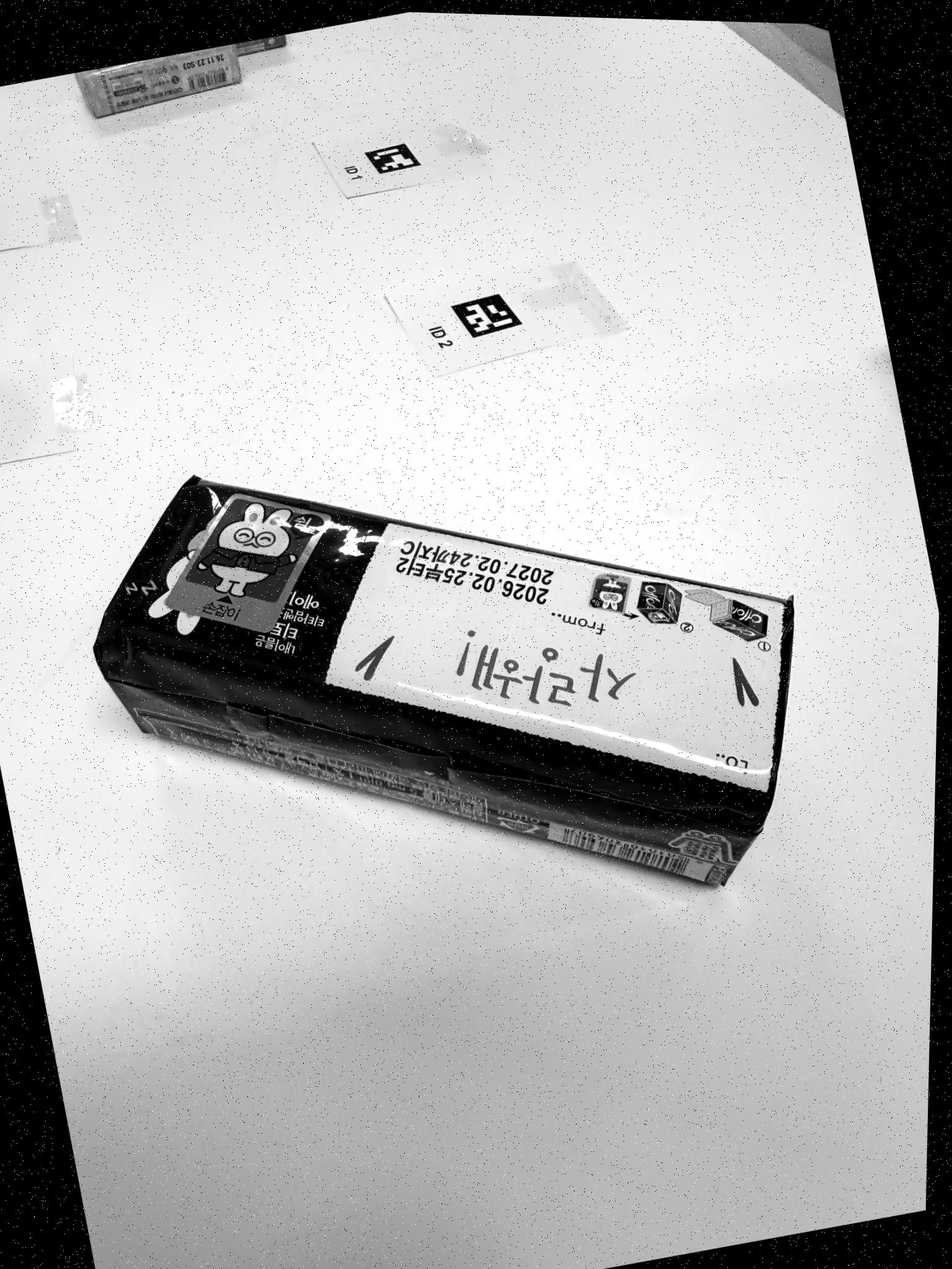cracker_ace: (95, 478, 793, 886)
